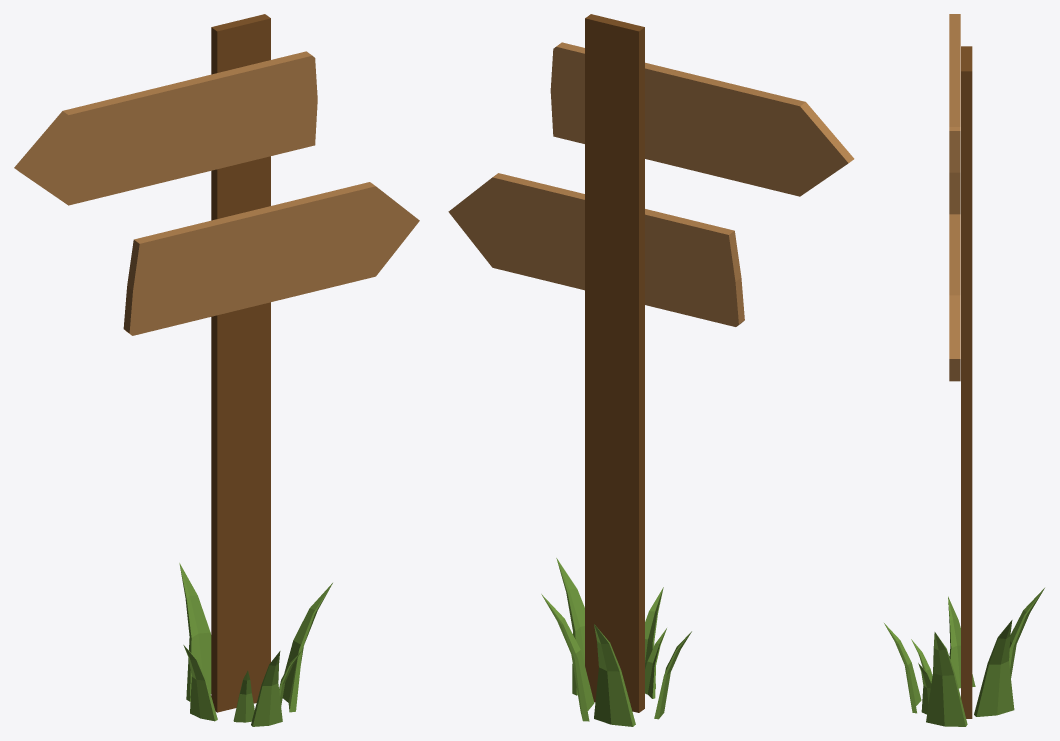
The model's file is Wooden Sign-ir1ipUXgGE.glb.
3 renders of one model, left to right at view 1: azimuth 30°, elevation 25°; view 2: azimuth 150°, elevation 25°; view 3: azimuth 270°, elevation 25°, orthographic. The views are drawn at different scales.
Parts seen in each view (by area): view 1: Wooden Sign-ir1ipUXgGE; view 2: Wooden Sign-ir1ipUXgGE; view 3: Wooden Sign-ir1ipUXgGE.
Part boxes in pixels (x1=…): Wooden Sign-ir1ipUXgGE: x1=14, y1=14, x2=419, y2=726; Wooden Sign-ir1ipUXgGE: x1=448, y1=14, x2=854, y2=726; Wooden Sign-ir1ipUXgGE: x1=884, y1=14, x2=1044, y2=726.
Bounding box in the file's own units: 1.18 × 1.93 × 0.4385.
